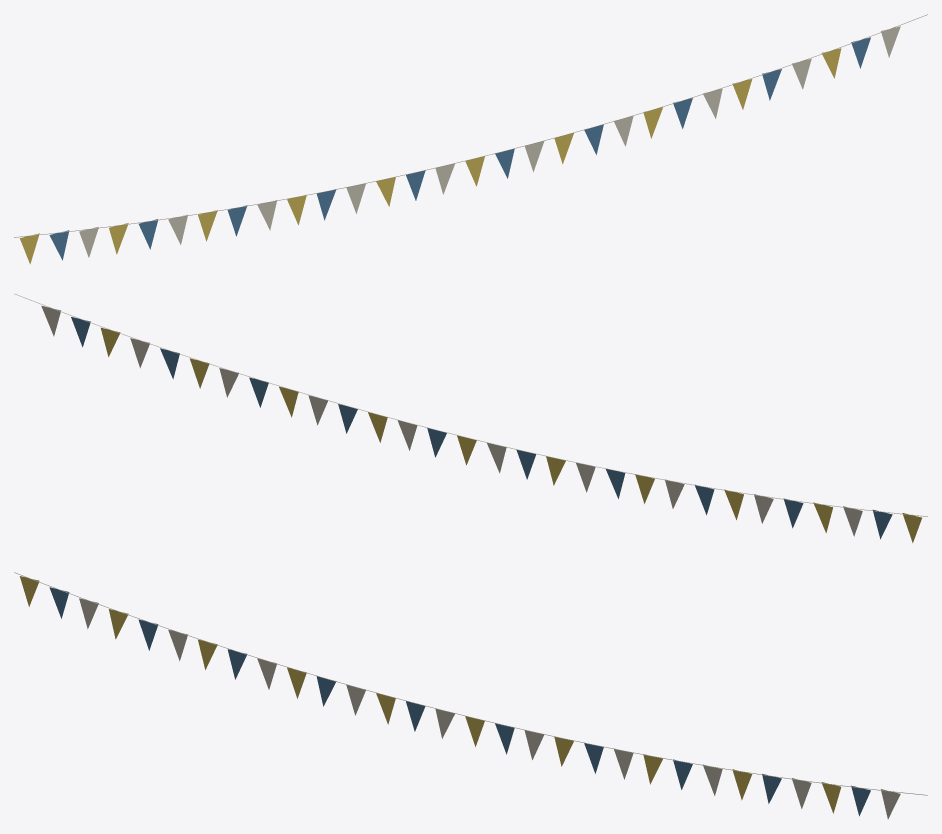
Rendered from festival_bunting_a_b.glb.
The picture shows the model from 3 angles, top to bottom: view 1: azimuth 30°, elevation 25°; view 2: azimuth 150°, elevation 25°; view 3: azimuth 330°, elevation 25°; orthographic projection.
Visible parts, largest first — view 1: body; view 2: body; view 3: body.
Boxes of the visible parts, x1,y1,x2,y2 form: body: (14, 14, 927, 264); body: (14, 293, 927, 542); body: (14, 572, 927, 819).
Size of the model in its own units: 10 by 0.6534 by 0.014.
